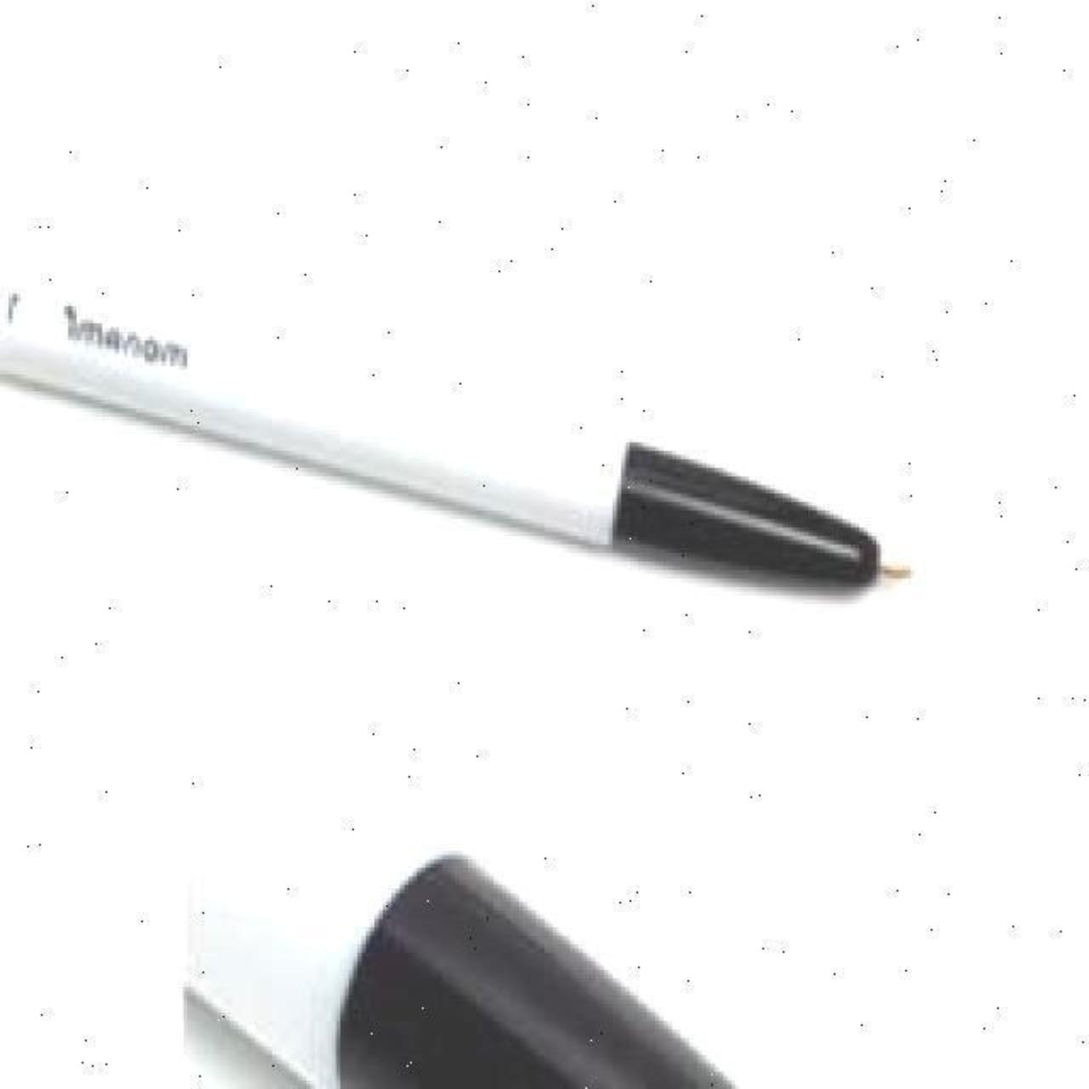pen: (0, 255, 919, 609)
